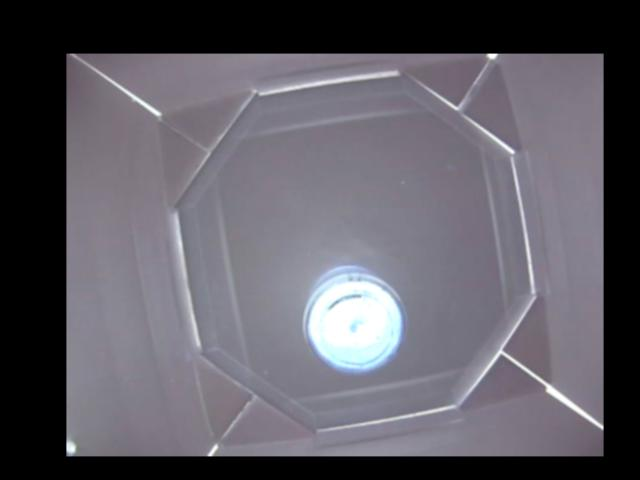Bottle: (302, 266, 407, 373)
